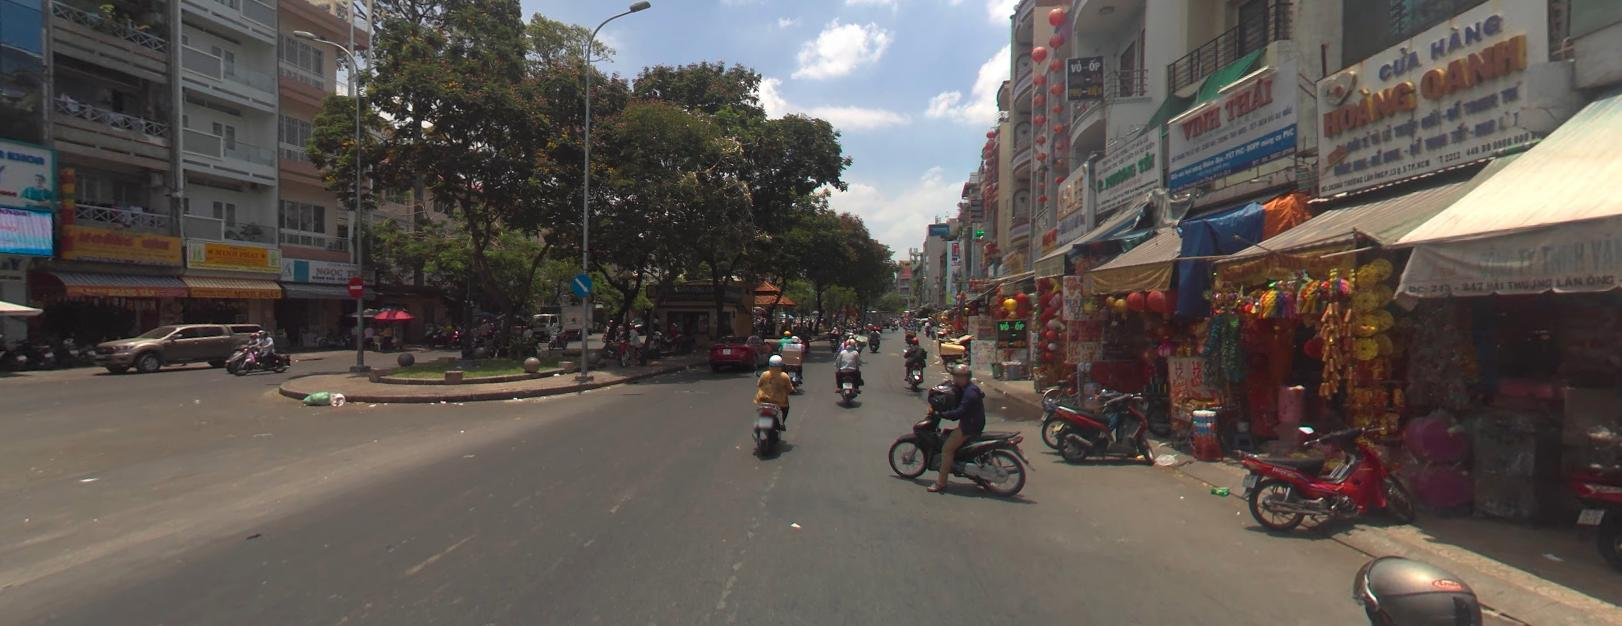Cam nguoc chieu: (347, 275, 364, 296)
Hieu lenh: (571, 272, 591, 295)
